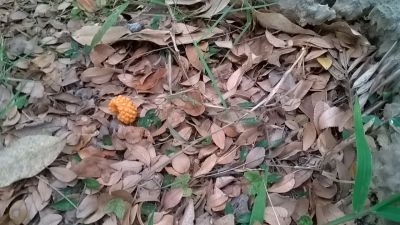eggs: (107, 94, 138, 124)
